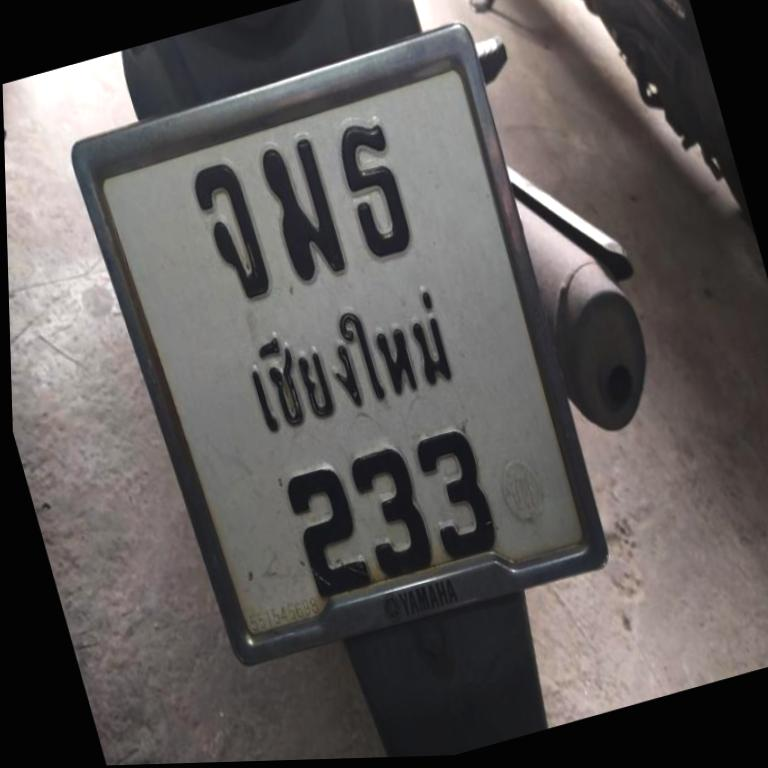license plate: (72, 25, 604, 662)
